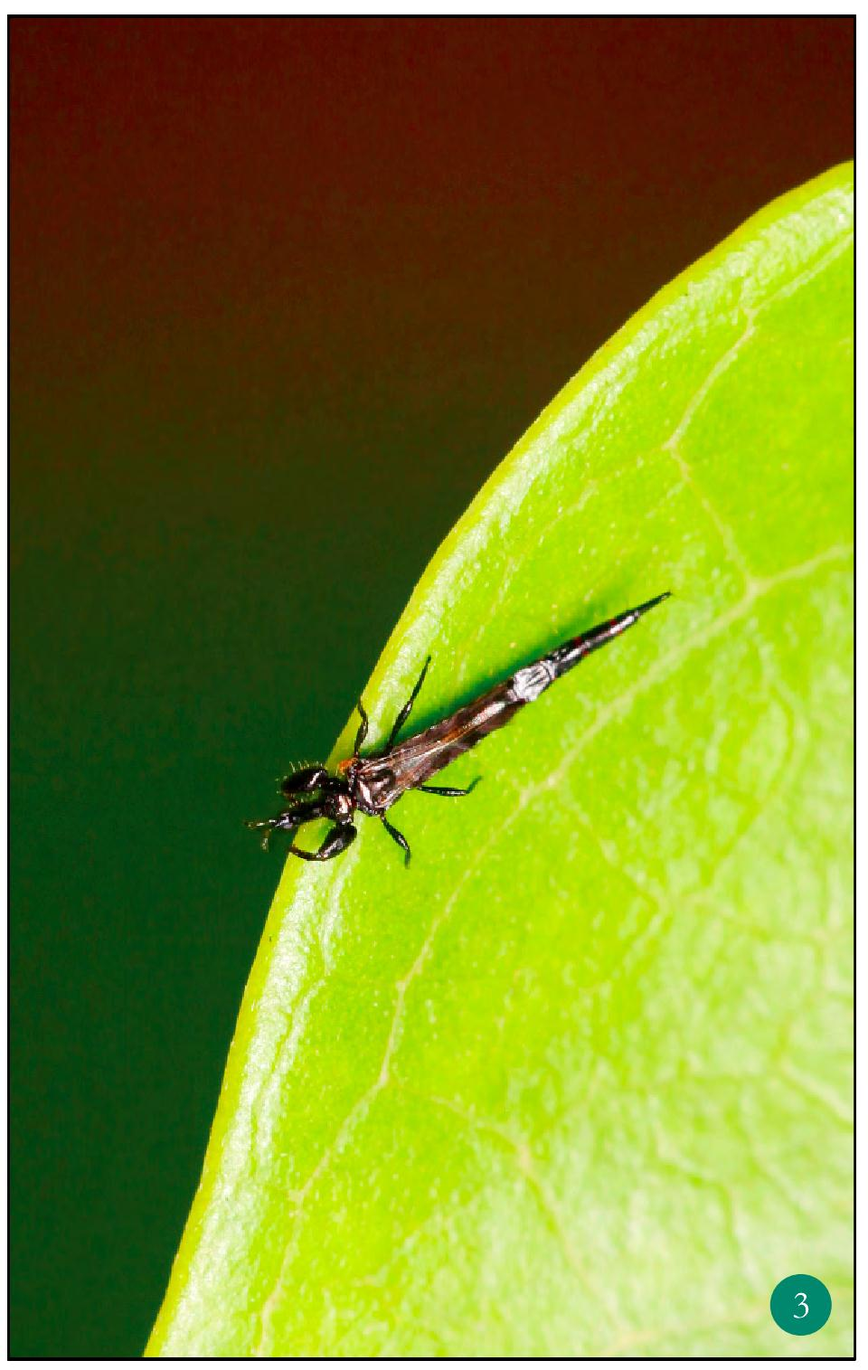Phlaeothripidae: (246, 576, 675, 875)
